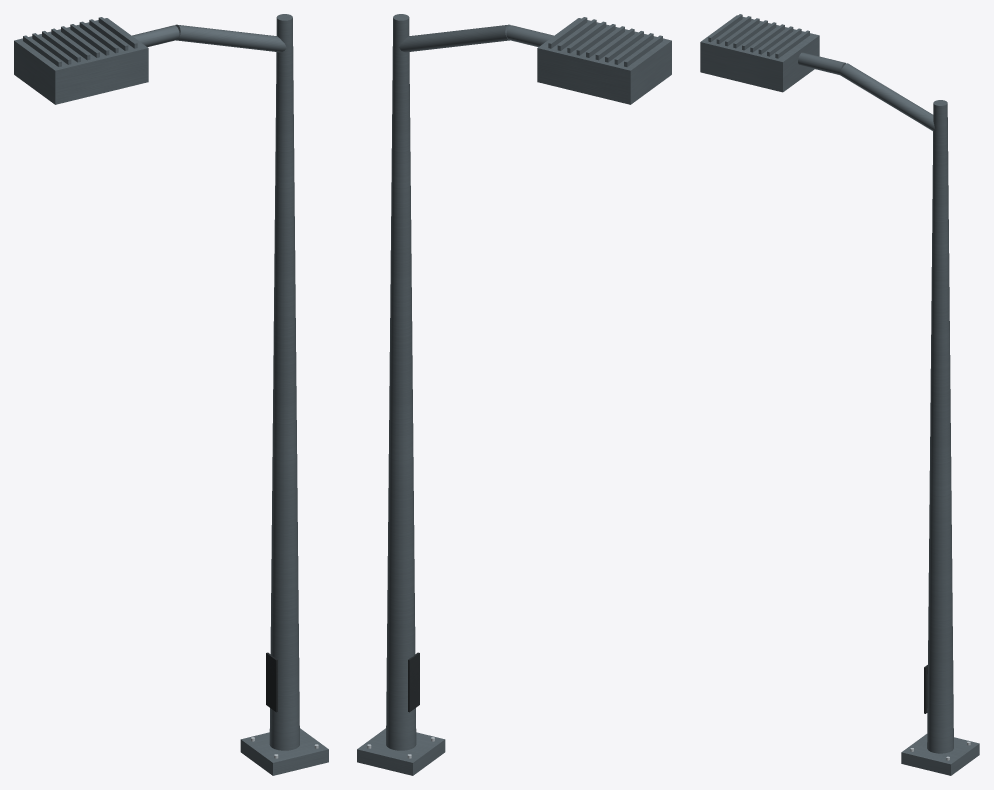
The model's file is street-lamp.glb.
The picture shows the model from 3 angles, left to right: view 1: azimuth 30°, elevation 25°; view 2: azimuth 150°, elevation 25°; view 3: azimuth 330°, elevation 25°; orthographic projection. The views are drawn at different scales.
Parts seen in each view (by area): view 1: street-lamp; view 2: street-lamp; view 3: street-lamp.
Boxes of the visible parts, bbox=[...] form: street-lamp: bbox=[14, 14, 328, 775]; street-lamp: bbox=[357, 14, 671, 775]; street-lamp: bbox=[700, 14, 979, 775].
Size of the model in its own units: 1.79 by 4.72 by 0.46.
4 materials, 4 textured.
